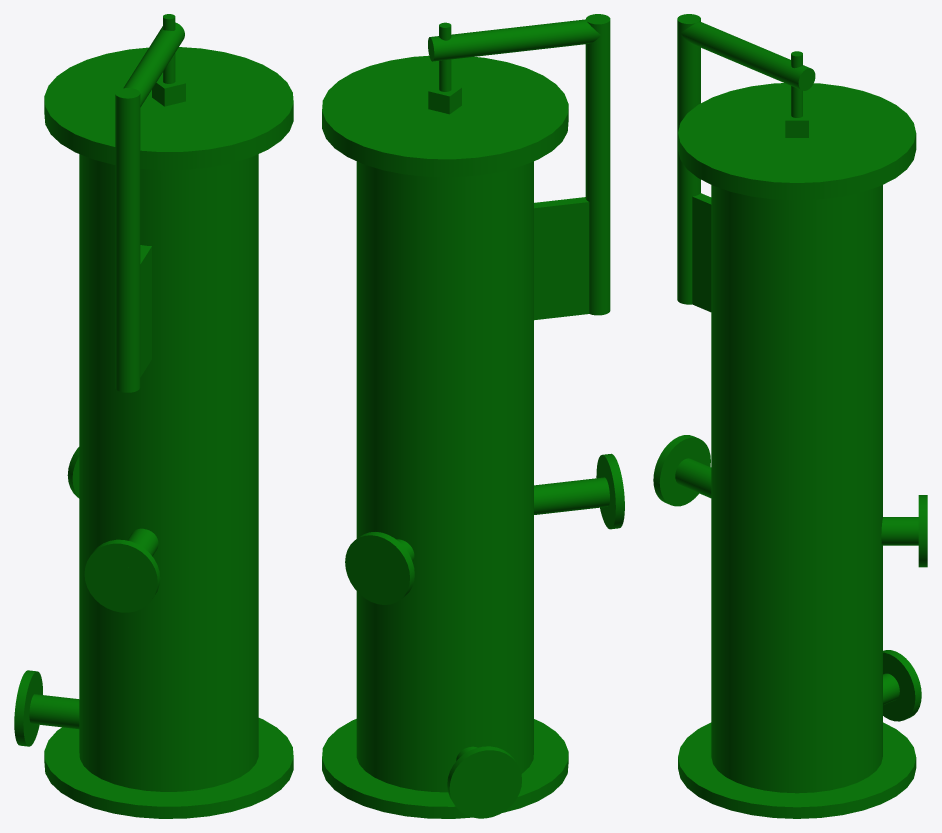
Rendered from Image-1711348185427-2281130300720_62-CB50A.fbx.
3 renders of one model, left to right at view 1: azimuth 30°, elevation 25°; view 2: azimuth 150°, elevation 25°; view 3: azimuth 270°, elevation 25°, orthographic. The views are drawn at different scales.
Parts seen in each view (by area): view 1: CYLINDER 2 of SUBEQUIPMENT /62-CB50A/PRIM, CYLINDER 3 of SUBEQUIPMENT /62-CB50A/PRIM, CYLINDER 1 of SUBEQUIPMENT /62-CB50A/PRIM, CYLINDER 6 of SUBEQUIPMENT /62-CB50A/PRIM, /62-CB50A/N2, /62-CB50A/N3, CYLINDER 4 of SUBEQUIPMENT /62-CB50A/PRIM, BOX 2 of SUBEQUIPMENT /62-CB50A/PRIM, BOX 1 of SUBEQUIPMENT /62-CB50A/PRIM; view 2: CYLINDER 2 of SUBEQUIPMENT /62-CB50A/PRIM, CYLINDER 3 of SUBEQUIPMENT /62-CB50A/PRIM, CYLINDER 1 of SUBEQUIPMENT /62-CB50A/PRIM, CYLINDER 6 of SUBEQUIPMENT /62-CB50A/PRIM, BOX 2 of SUBEQUIPMENT /62-CB50A/PRIM, /62-CB50A/N3, CYLINDER 4 of SUBEQUIPMENT /62-CB50A/PRIM, /62-CB50A/N1, /62-CB50A/N2, BOX 1 of SUBEQUIPMENT /62-CB50A/PRIM, CYLINDER 5 of SUBEQUIPMENT /62-CB50A/PRIM; view 3: CYLINDER 2 of SUBEQUIPMENT /62-CB50A/PRIM, CYLINDER 3 of SUBEQUIPMENT /62-CB50A/PRIM, CYLINDER 1 of SUBEQUIPMENT /62-CB50A/PRIM, CYLINDER 6 of SUBEQUIPMENT /62-CB50A/PRIM, /62-CB50A/N2, CYLINDER 4 of SUBEQUIPMENT /62-CB50A/PRIM, /62-CB50A/N3, BOX 2 of SUBEQUIPMENT /62-CB50A/PRIM, /62-CB50A/N1, BOX 1 of SUBEQUIPMENT /62-CB50A/PRIM, CYLINDER 5 of SUBEQUIPMENT /62-CB50A/PRIM.
Part boxes in pixels (box(x1,y1,x2,y2)): CYLINDER 2 of SUBEQUIPMENT /62-CB50A/PRIM: box(79, 154, 258, 791); CYLINDER 3 of SUBEQUIPMENT /62-CB50A/PRIM: box(44, 47, 293, 170); CYLINDER 1 of SUBEQUIPMENT /62-CB50A/PRIM: box(44, 718, 293, 818); CYLINDER 6 of SUBEQUIPMENT /62-CB50A/PRIM: box(115, 88, 140, 392); /62-CB50A/N2: box(84, 528, 160, 612); /62-CB50A/N3: box(14, 670, 79, 746); CYLINDER 4 of SUBEQUIPMENT /62-CB50A/PRIM: box(123, 22, 184, 107); BOX 2 of SUBEQUIPMENT /62-CB50A/PRIM: box(140, 245, 151, 377); BOX 1 of SUBEQUIPMENT /62-CB50A/PRIM: box(152, 75, 185, 106); CYLINDER 2 of SUBEQUIPMENT /62-CB50A/PRIM: box(356, 161, 533, 792); CYLINDER 3 of SUBEQUIPMENT /62-CB50A/PRIM: box(322, 55, 568, 177); CYLINDER 1 of SUBEQUIPMENT /62-CB50A/PRIM: box(322, 719, 568, 818); CYLINDER 6 of SUBEQUIPMENT /62-CB50A/PRIM: box(585, 14, 610, 315); BOX 2 of SUBEQUIPMENT /62-CB50A/PRIM: box(534, 197, 589, 320); /62-CB50A/N3: box(447, 746, 521, 818); CYLINDER 4 of SUBEQUIPMENT /62-CB50A/PRIM: box(428, 19, 600, 61); /62-CB50A/N1: box(345, 532, 414, 604); /62-CB50A/N2: box(534, 453, 624, 529); BOX 1 of SUBEQUIPMENT /62-CB50A/PRIM: box(428, 84, 461, 114); CYLINDER 5 of SUBEQUIPMENT /62-CB50A/PRIM: box(439, 22, 451, 91); CYLINDER 2 of SUBEQUIPMENT /62-CB50A/PRIM: box(711, 185, 882, 793); CYLINDER 3 of SUBEQUIPMENT /62-CB50A/PRIM: box(678, 83, 916, 200); CYLINDER 1 of SUBEQUIPMENT /62-CB50A/PRIM: box(678, 722, 916, 818); CYLINDER 6 of SUBEQUIPMENT /62-CB50A/PRIM: box(677, 14, 700, 304); /62-CB50A/N2: box(653, 435, 711, 506); CYLINDER 4 of SUBEQUIPMENT /62-CB50A/PRIM: box(681, 21, 815, 90); /62-CB50A/N3: box(883, 650, 921, 721); BOX 2 of SUBEQUIPMENT /62-CB50A/PRIM: box(692, 193, 711, 312); /62-CB50A/N1: box(881, 495, 927, 567); BOX 1 of SUBEQUIPMENT /62-CB50A/PRIM: box(785, 110, 808, 137); CYLINDER 5 of SUBEQUIPMENT /62-CB50A/PRIM: box(791, 51, 802, 117).
Bounding box in the file's own units: 0.5577 × 0.5757 × 1.66.
